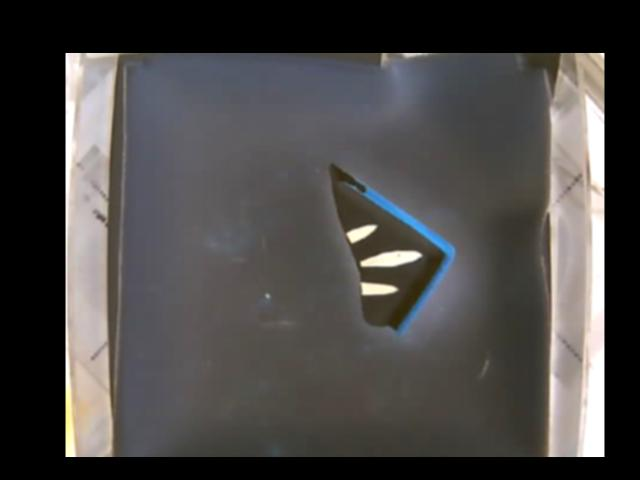China: (324, 161, 454, 329)
